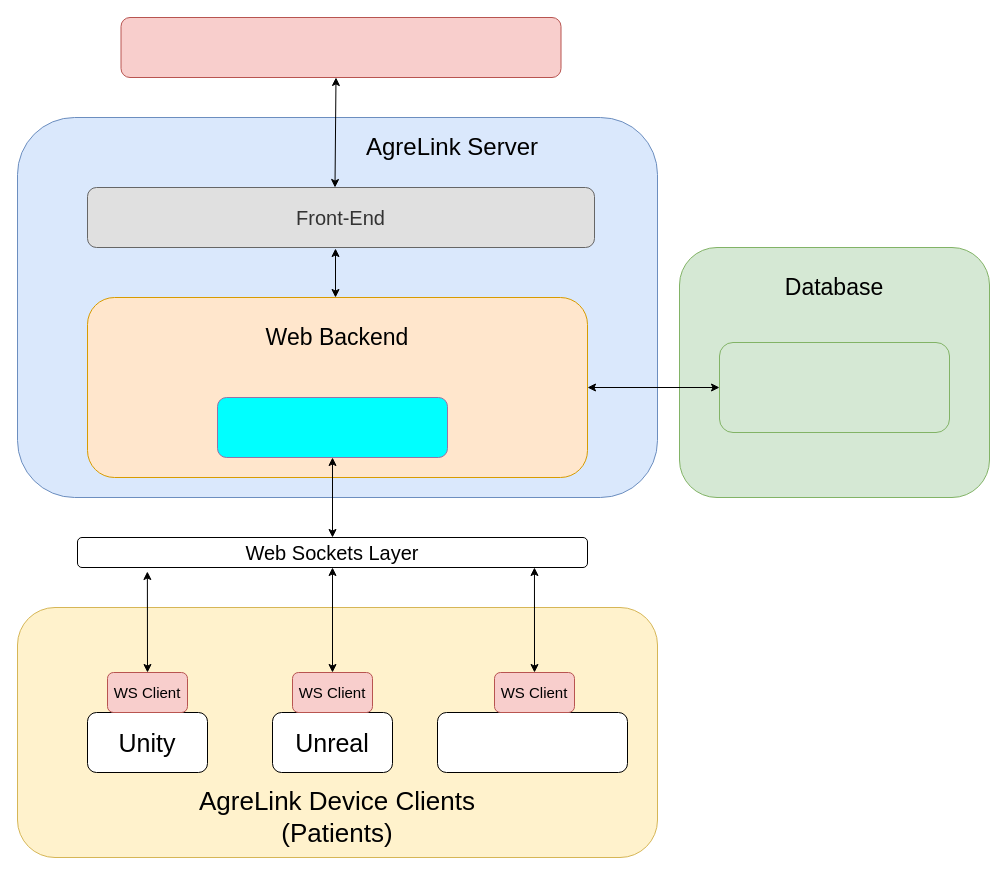
The diagram is 1007 pixels wide and 875 high, and some of its shapes have lost their labels. The shapes that lost their labels are listed below. From the top down, each one's box as (x1, y1, x2, y2) in pixels, then its label:
(120, 16, 561, 78): AgreLink Web Users (Professionals)
(718, 342, 950, 432): SQL / NoSQL DB
(216, 396, 448, 458): WS Server
(436, 712, 628, 772): Other VR App
